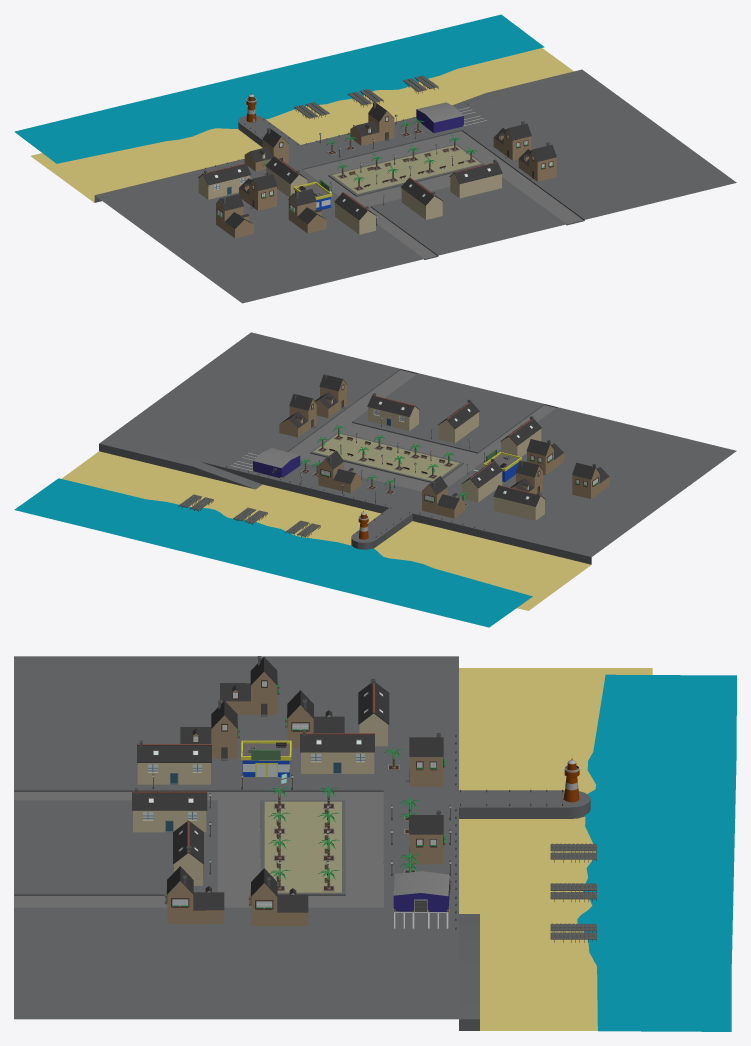
File: world_2.fbx
The picture shows the model from 3 angles, top to bottom: view 1: azimuth 30°, elevation 25°; view 2: azimuth 150°, elevation 25°; view 3: azimuth 270°, elevation 25°; orthographic projection. The views are drawn at different scales.
Visible parts, largest first — view 1: Place_parking6; view 2: Place_parking6; view 3: Place_parking6.
Part boxes in pixels (<box>): Place_parking6: <box>14,14,736,303</box>; Place_parking6: <box>14,332,736,627</box>; Place_parking6: <box>14,656,736,1031</box>.
Size of the model in its own units: 4904 by 360 by 4102.
